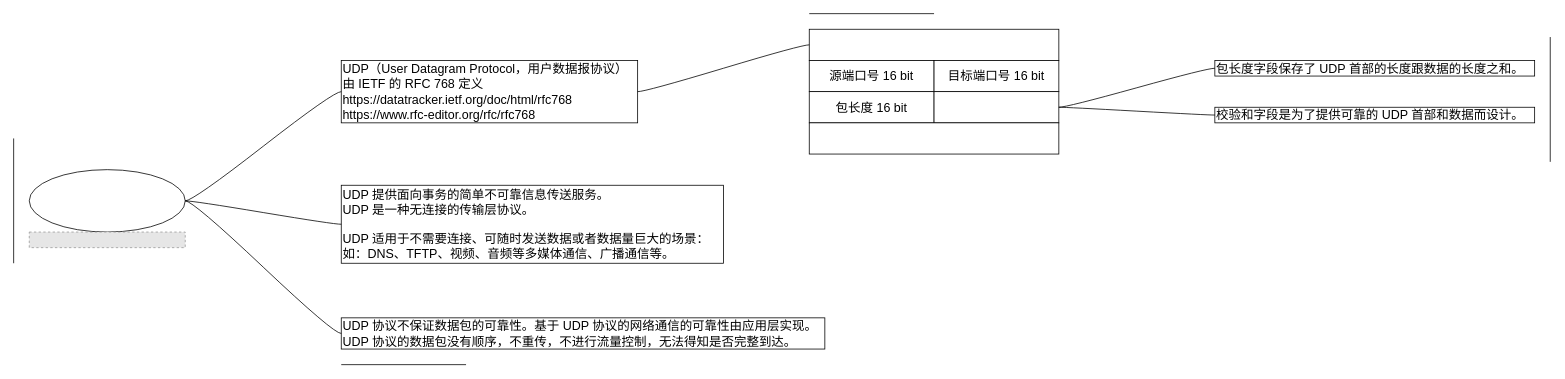
Image size: 1565x379. Some labels were removed from this diagram. Grey dashed boxes stand in for pictures. The box of each missing label's shape, as (x1, y1, x2, y2) in pixels:
UDP: (28, 169, 185, 232)
UDP 报文格式示意图: (808, 28, 1059, 60)
数据，长度可变: (808, 122, 1059, 154)
校验和 16 bit: (933, 91, 1059, 123)
